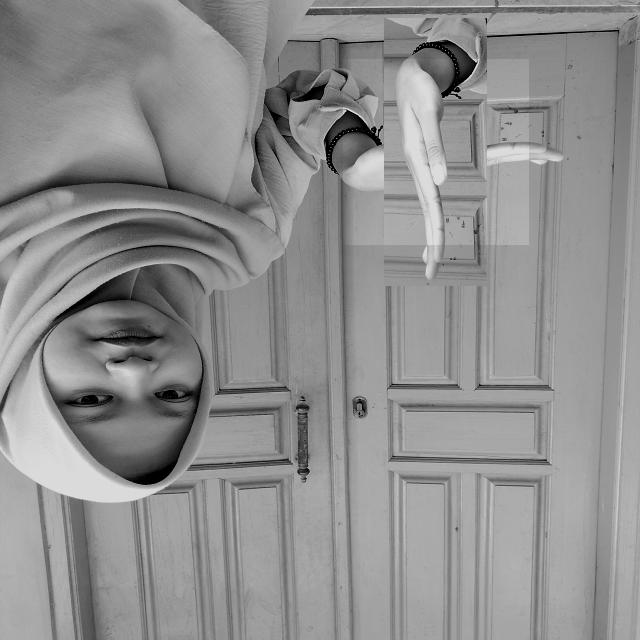adik: (343, 59, 529, 245)
